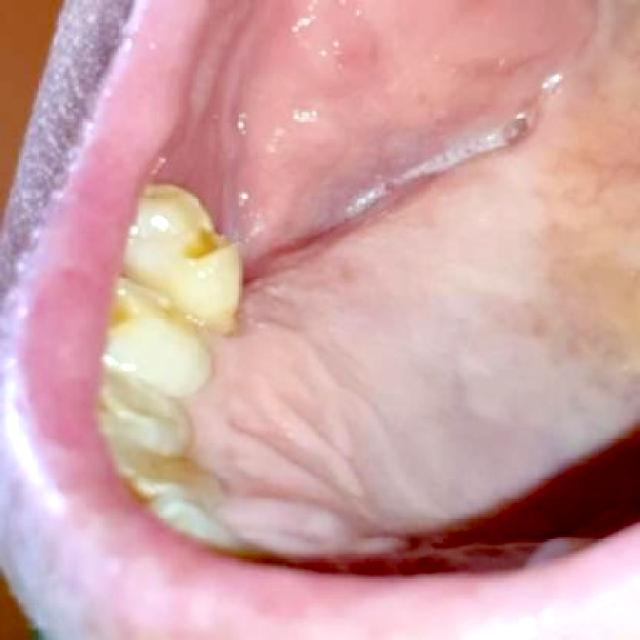Plaque: (204, 289, 278, 369), (176, 233, 238, 260)
